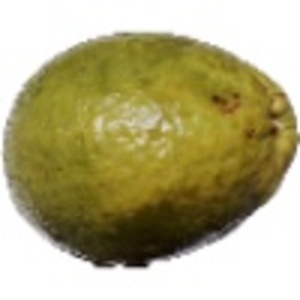goiaba: (6, 26, 291, 271)
